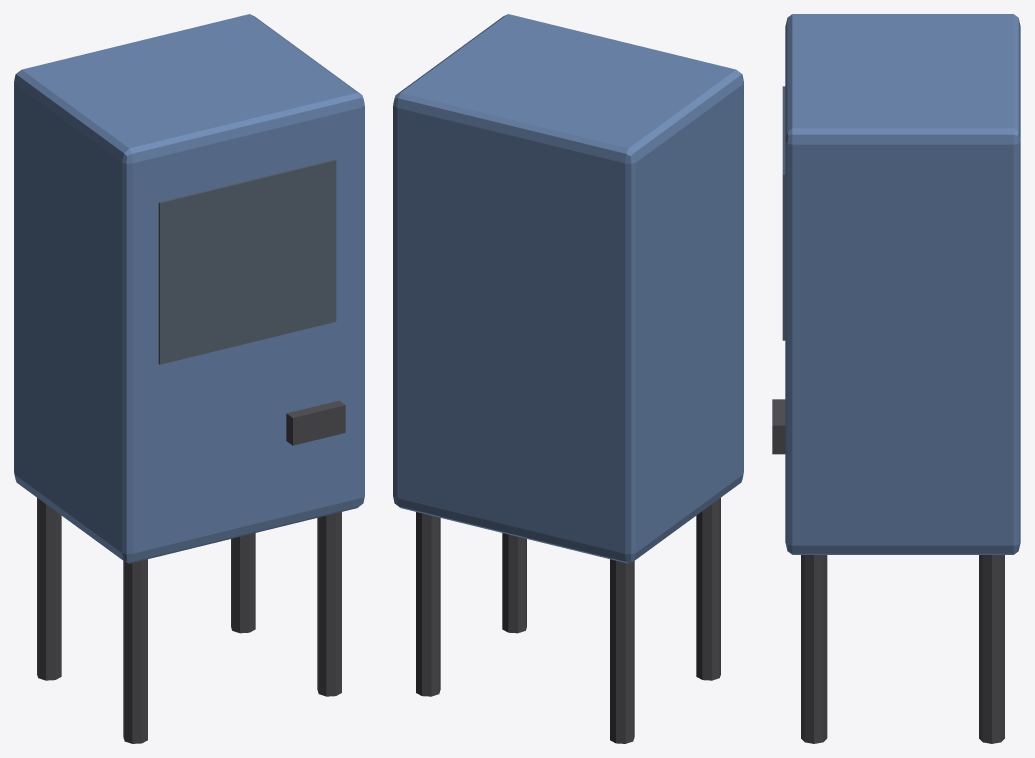
File: newspaper-box.glb
3 views of the same model, side by side, from view 1: azimuth 30°, elevation 25°; view 2: azimuth 150°, elevation 25°; view 3: azimuth 270°, elevation 25° (orthographic). The views are drawn at different scales.
Parts seen in each view (by area): view 1: Cube, Cube.001, Cylinder, Cylinder.002, Cylinder.001, Cylinder.003, Cube.002; view 2: Cube, Cylinder.001, Cylinder.003, Cylinder, Cylinder.002; view 3: Cube, Cylinder.002, Cylinder.003, Cube.001, Cube.002.
Boxes of the visible parts, x1=… form: Cube: x1=14, y1=14, x2=364, y2=563; Cube.001: x1=158, y1=159, x2=336, y2=364; Cylinder: x1=123, y1=559, x2=147, y2=743; Cylinder.002: x1=317, y1=512, x2=341, y2=696; Cylinder.001: x1=37, y1=498, x2=61, y2=680; Cylinder.003: x1=231, y1=533, x2=255, y2=633; Cube.002: x1=286, y1=400, x2=345, y2=445; Cube: x1=393, y1=14, x2=743, y2=563; Cylinder.001: x1=610, y1=559, x2=634, y2=743; Cylinder.003: x1=416, y1=512, x2=440, y2=696; Cylinder: x1=696, y1=498, x2=720, y2=680; Cylinder.002: x1=502, y1=533, x2=526, y2=633; Cube: x1=785, y1=14, x2=1020, y2=554; Cylinder.002: x1=801, y1=555, x2=827, y2=743; Cylinder.003: x1=979, y1=555, x2=1004, y2=743; Cube.001: x1=782, y1=86, x2=785, y2=340; Cube.002: x1=772, y1=399, x2=785, y2=454.
Size of what is drawn, in the model's own units: 0.55 by 1.31 by 0.475.
